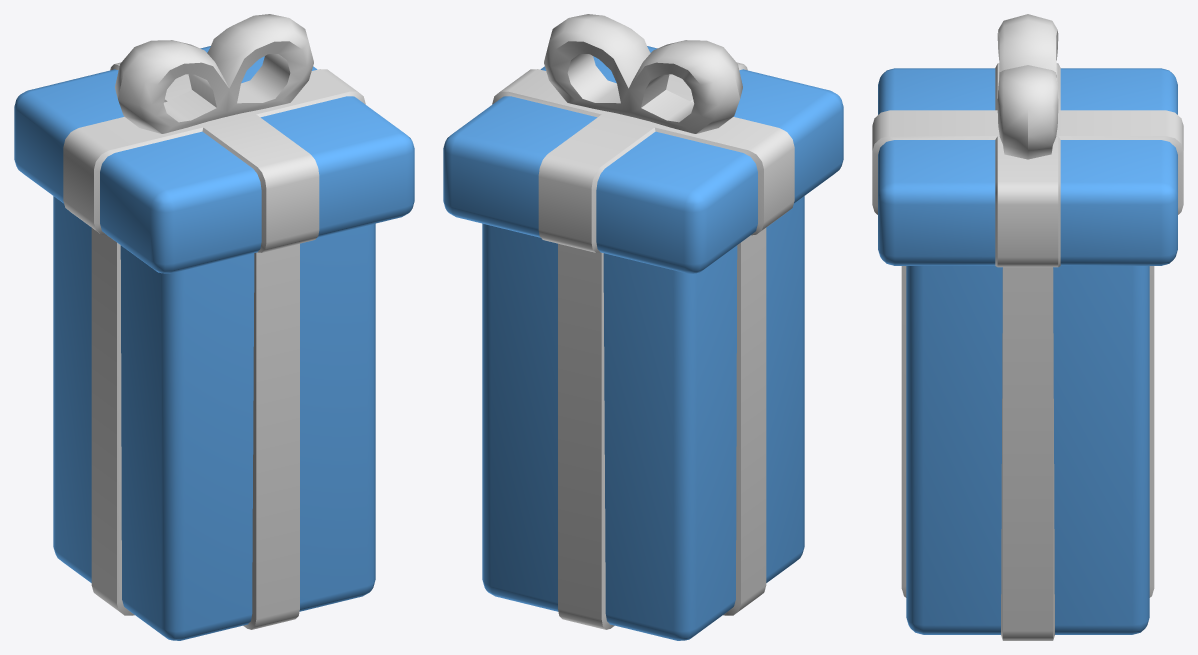
File: giftE.gltf.glb
3 views of the same model, side by side, from view 1: azimuth 30°, elevation 25°; view 2: azimuth 150°, elevation 25°; view 3: azimuth 270°, elevation 25° (orthographic).
Parts seen in each view (by area): view 1: giftE; view 2: giftE; view 3: giftE.
Boxes of the visible parts, bbox=[...] form: giftE: bbox=[14, 14, 414, 640]; giftE: bbox=[443, 14, 843, 640]; giftE: bbox=[872, 14, 1183, 640].
Bounding box in the file's own units: 0.7062 × 1.36 × 0.7062.
